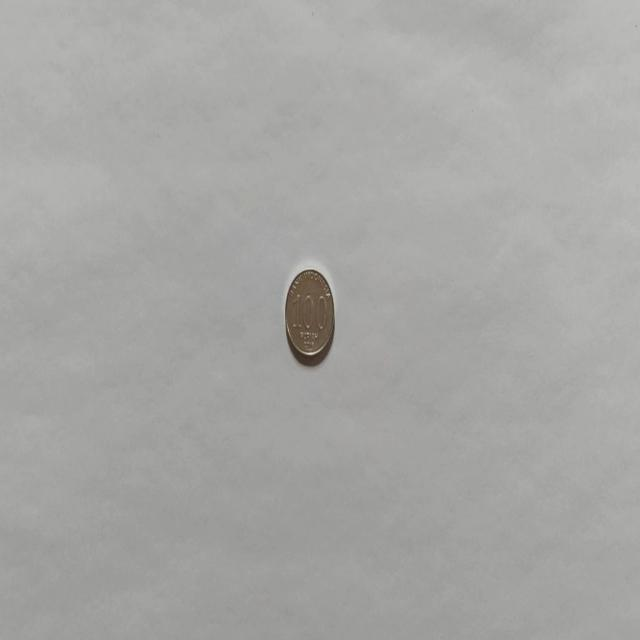seratus rupiah: (283, 266, 335, 364)
